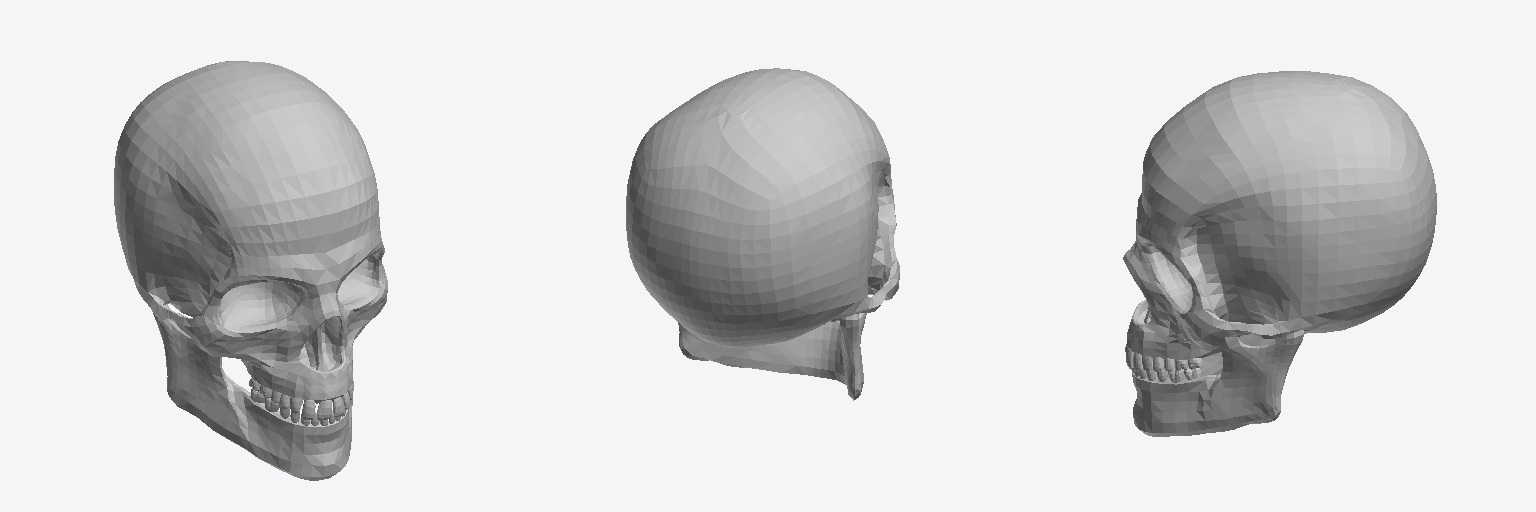
File: skull.obj
3 renders of one model, left to right at view 1: azimuth 30°, elevation 25°; view 2: azimuth 150°, elevation 25°; view 3: azimuth 270°, elevation 25°, orthographic.
Visible parts, largest first — view 1: SM_Skull; view 2: SM_Skull; view 3: SM_Skull.
Part boxes in pixels (x1,y1,x2,y2): SM_Skull: (114,61,387,480); SM_Skull: (626,68,899,400); SM_Skull: (1123,71,1436,436).
Size of the model in its own units: 152 by 225 by 185.